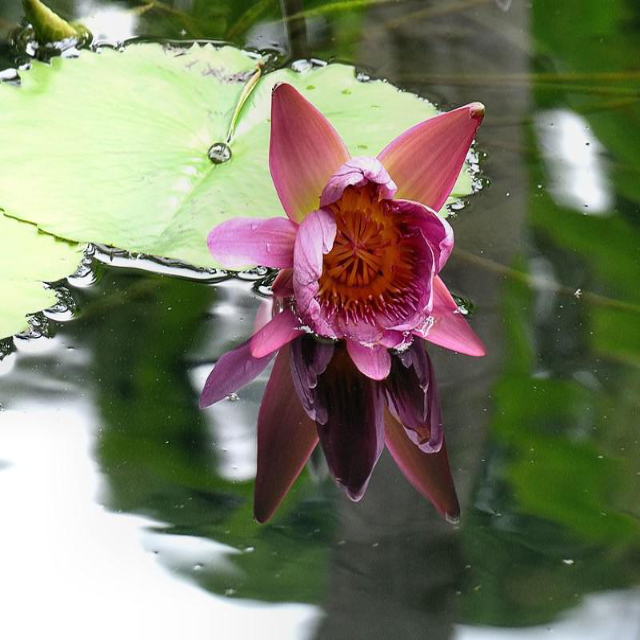water_lily: (208, 79, 491, 375)
